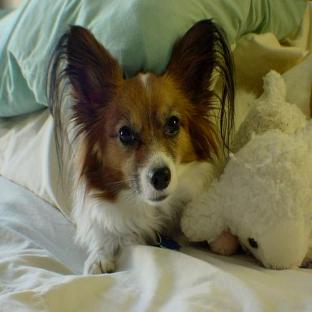Animal: (47, 20, 234, 274)
